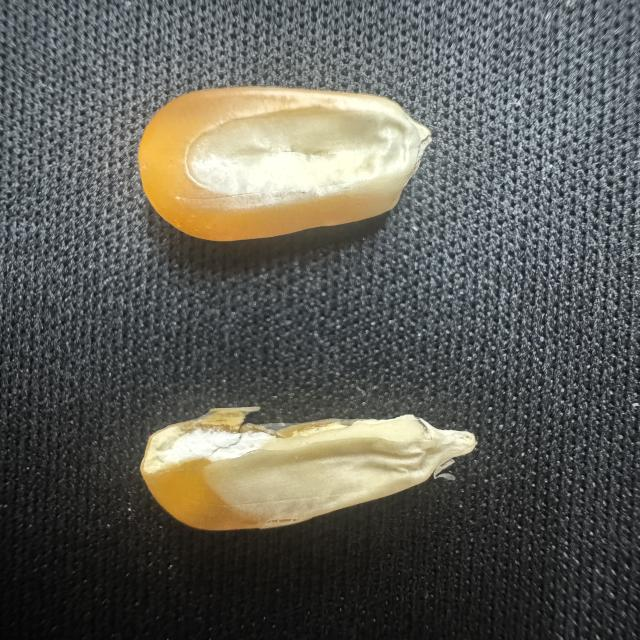Bad-Seed: (132, 392, 490, 545)
Good-Seed: (128, 73, 436, 247)
